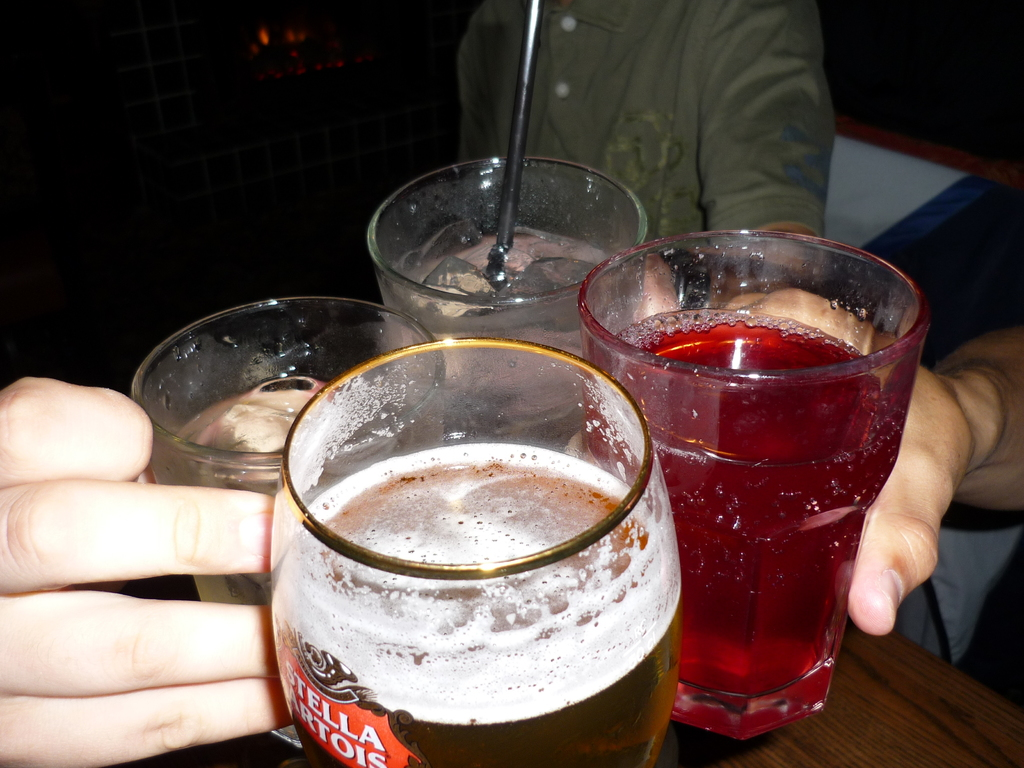Beer: (254, 337, 688, 767), (578, 235, 930, 746), (131, 299, 443, 748), (360, 147, 650, 362)
